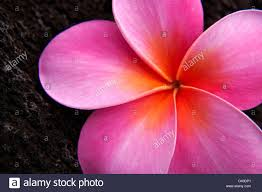frangipani: (39, 1, 262, 174)
